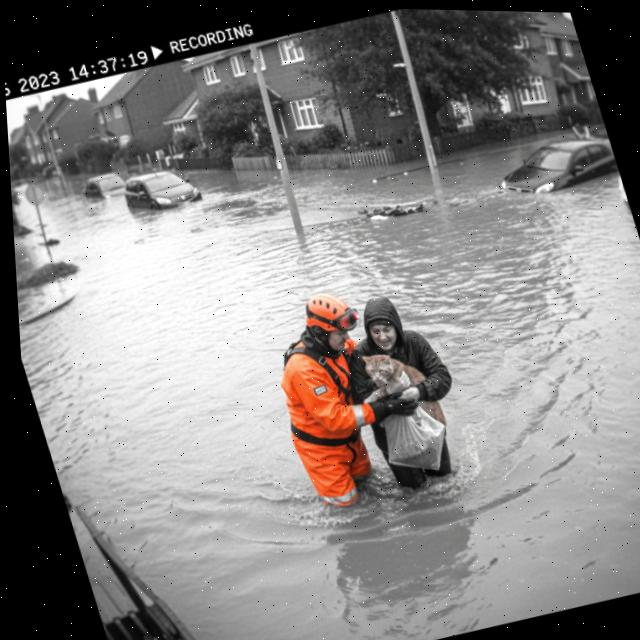cat: (354, 339, 458, 454)
civilian: (331, 278, 487, 507)
rescuer: (247, 277, 417, 521)
